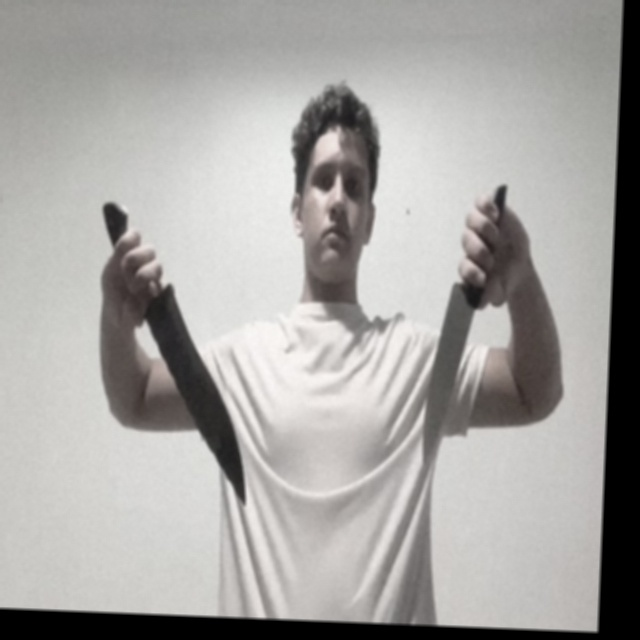Sharp-Object: (138, 282, 253, 504), (419, 279, 481, 465)
